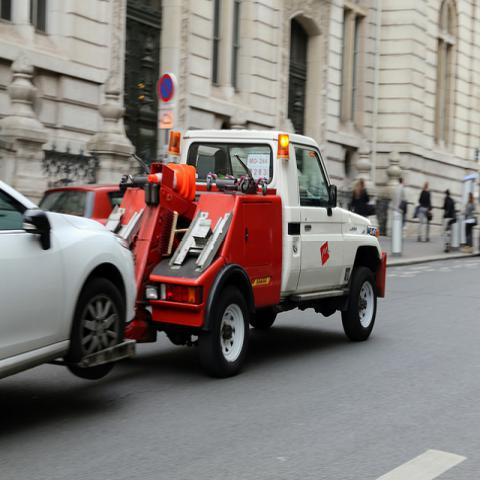car: (0, 178, 138, 382)
truck: (0, 128, 387, 382)
